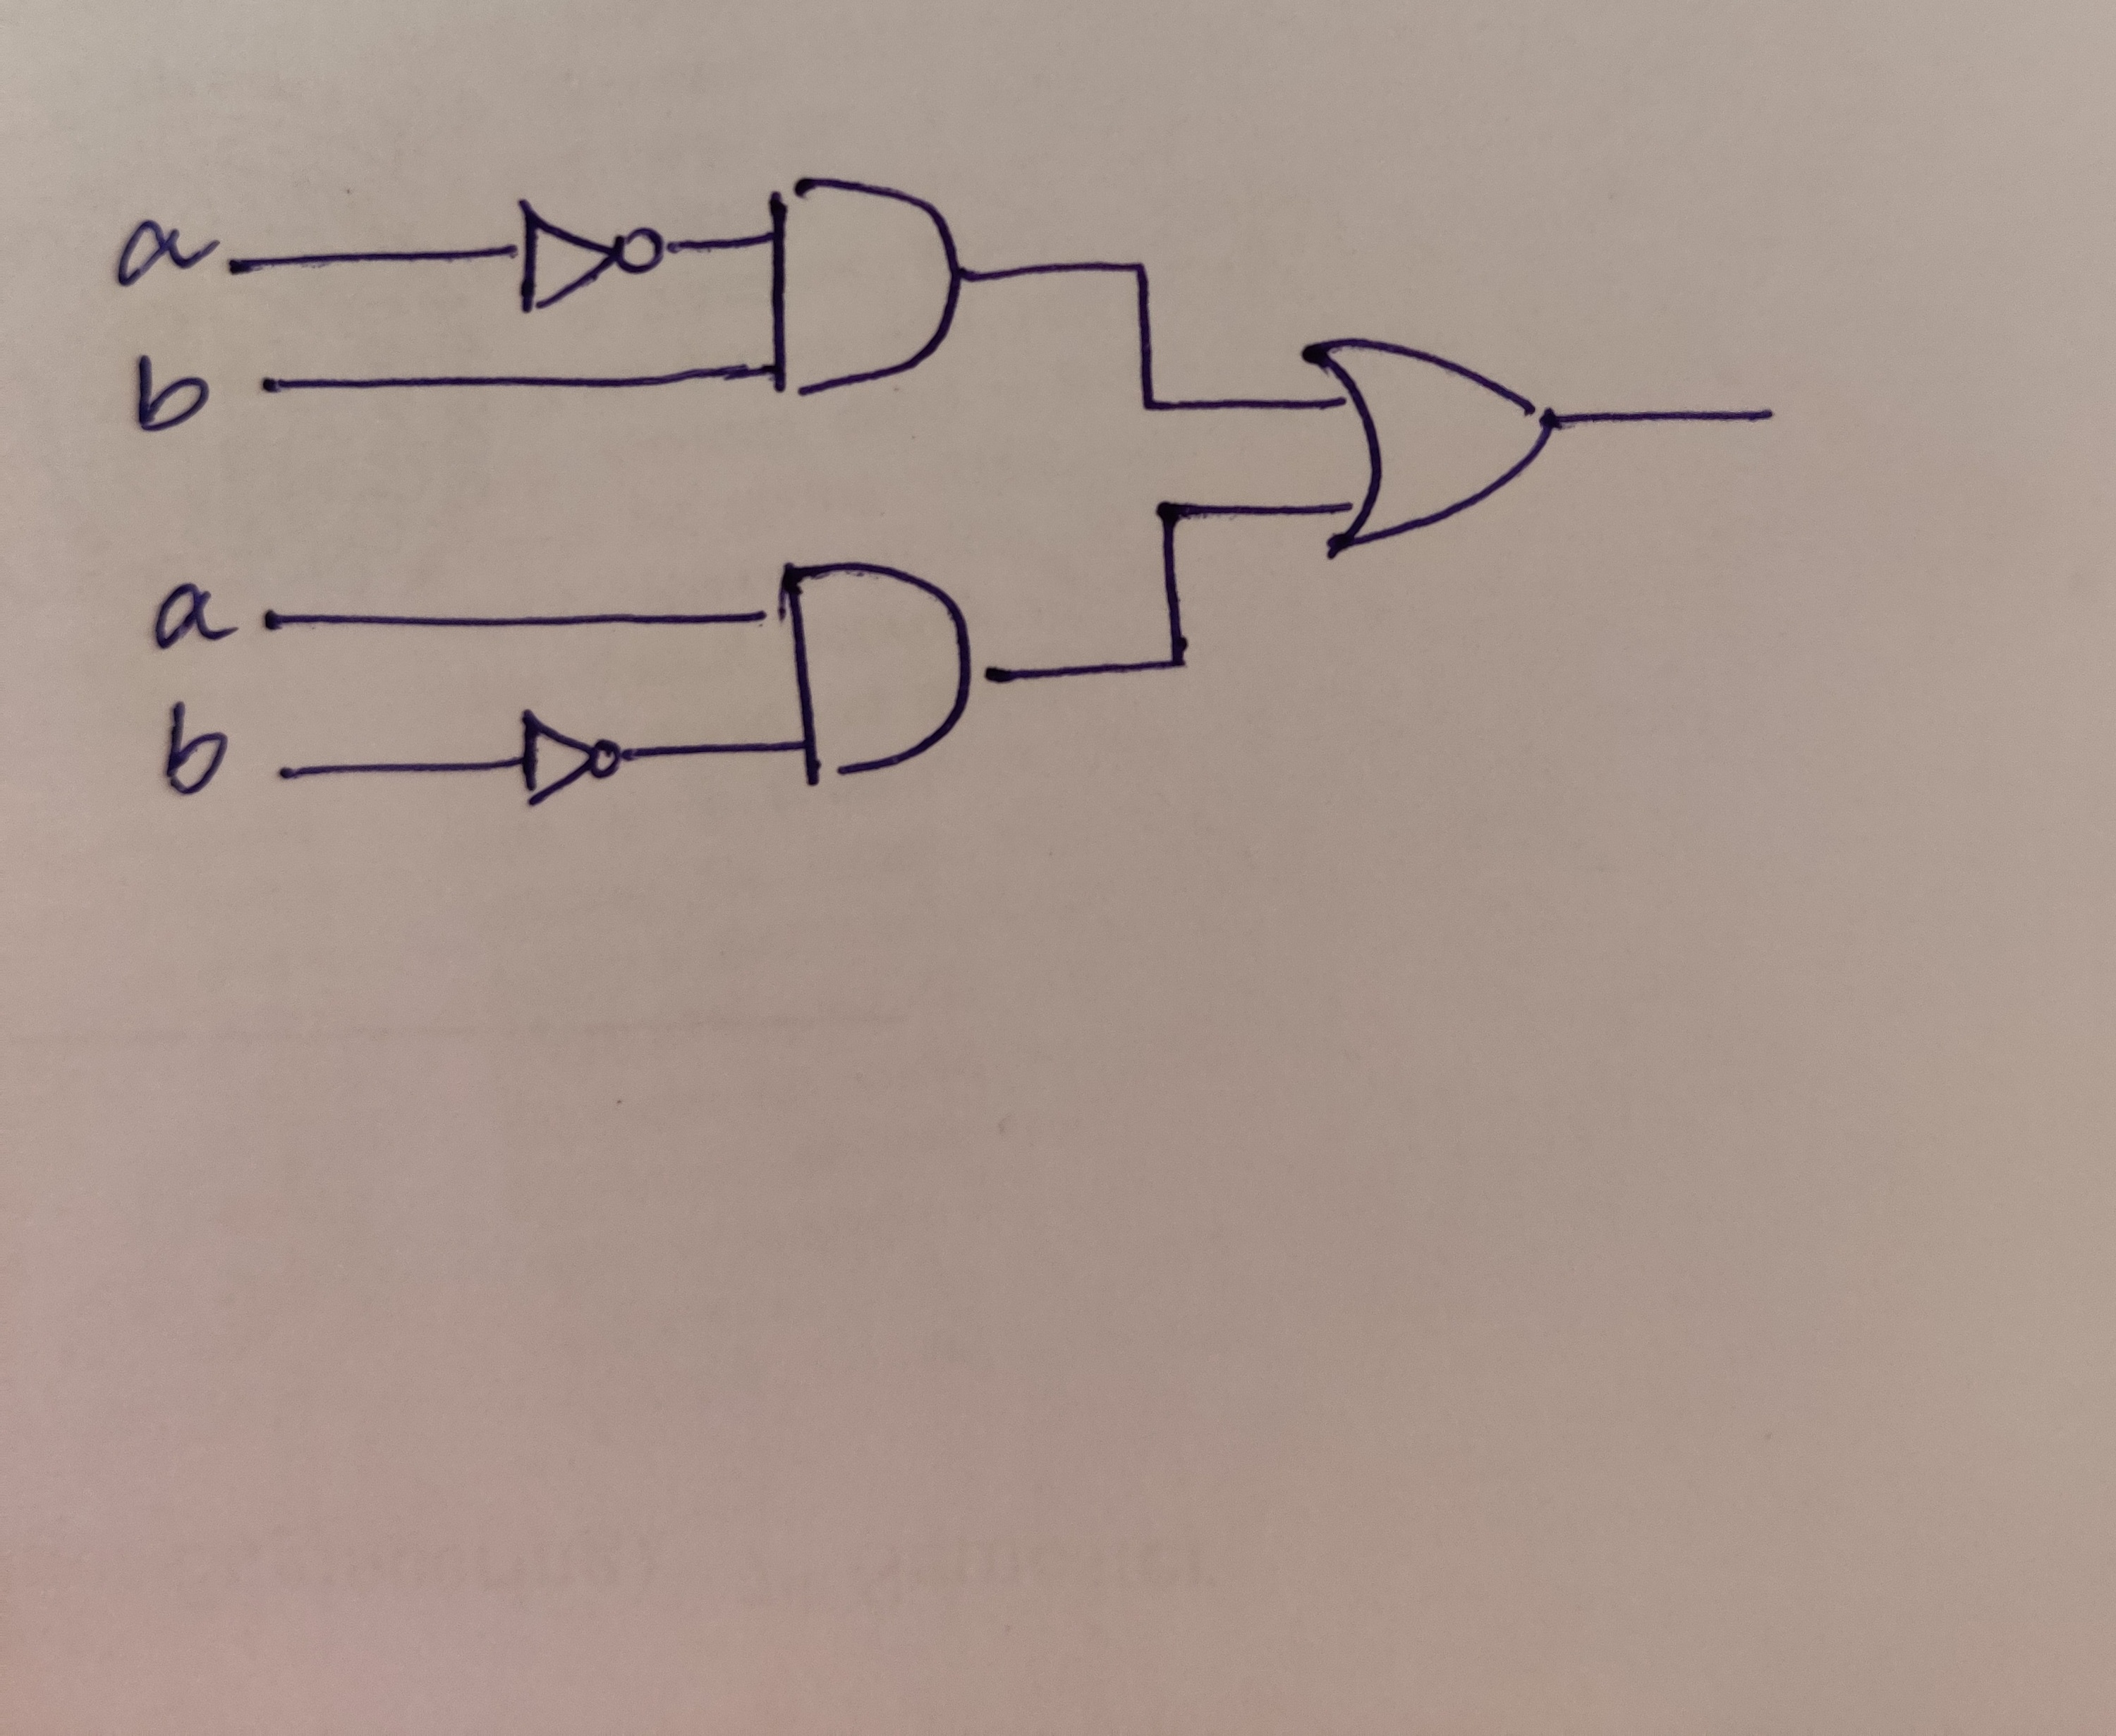and: (752, 149, 1016, 476), (752, 545, 1009, 799)
not: (478, 135, 673, 343), (483, 685, 668, 856)
or: (1288, 315, 1585, 568)
